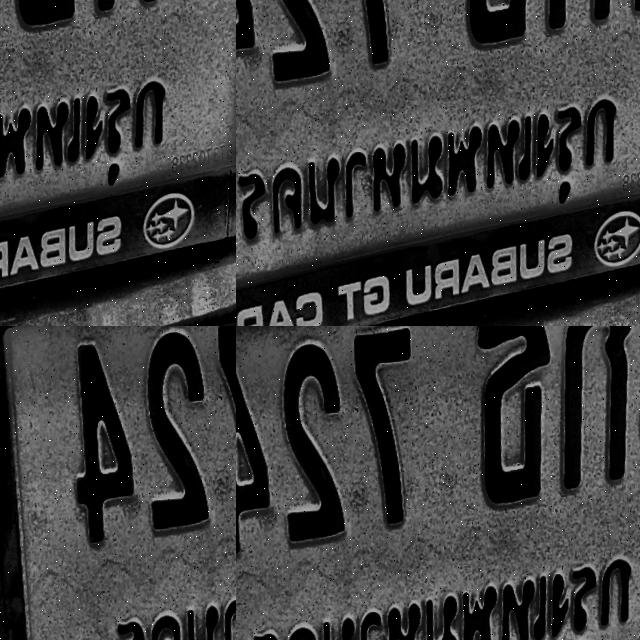license-plate: (236, 326, 640, 640), (456, 22, 506, 84)
